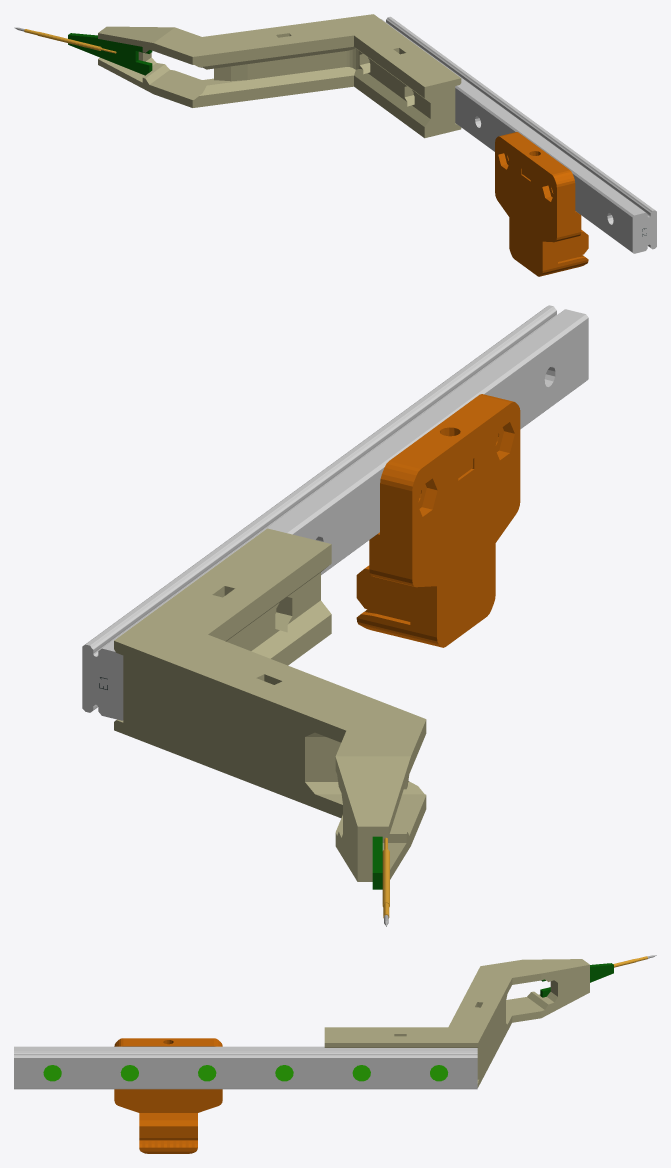
3 renders of one model, top to bottom at view 1: azimuth 30°, elevation 25°; view 2: azimuth 150°, elevation 25°; view 3: azimuth 270°, elevation 25°, orthographic. The views are drawn at different scales.
Parts seen in each view (by area): view 1: probotor; view 2: probotor; view 3: probotor.
Part boxes in pixels (x1=…): probotor: x1=14, y1=14, x2=656, y2=276; probotor: x1=82, y1=305, x2=588, y2=926; probotor: x1=14, y1=955, x2=656, y2=1153.
Size of the model in its own units: 91.32 by 37 by 208.
